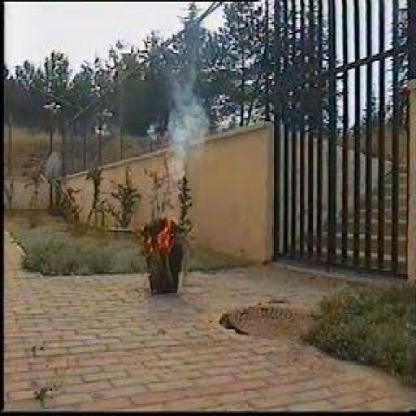-: (163, 80, 210, 158)
foggia-v2-map80-epoch100 - v1 4323: (144, 216, 181, 259)
